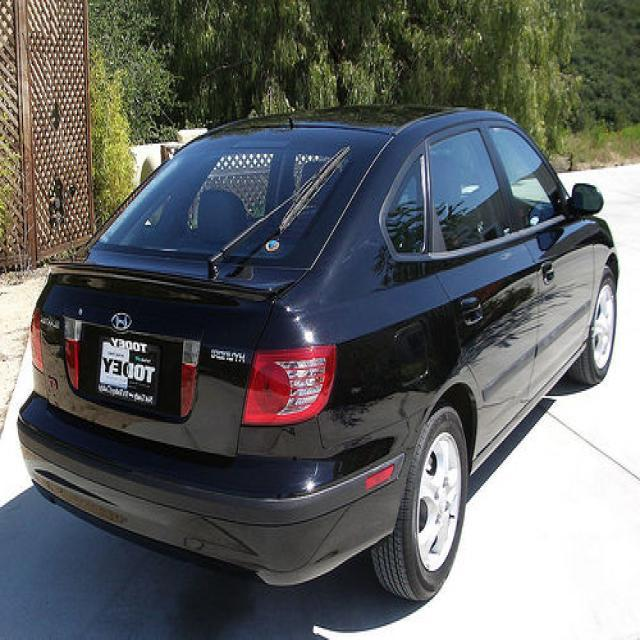Car: (13, 48, 621, 629)
